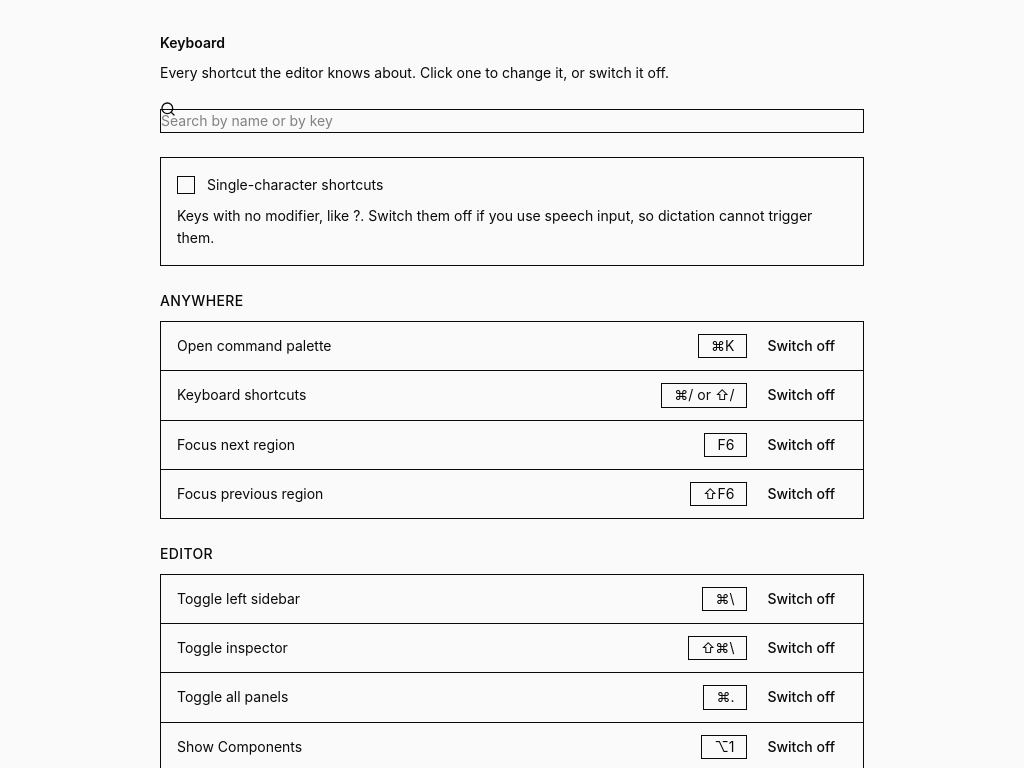
KeyboardSettings › remapping › refuses a key the browser owns, and says why
Click the button "⇧⌘\\".
click(718, 648)  # box [688,636,747,660]
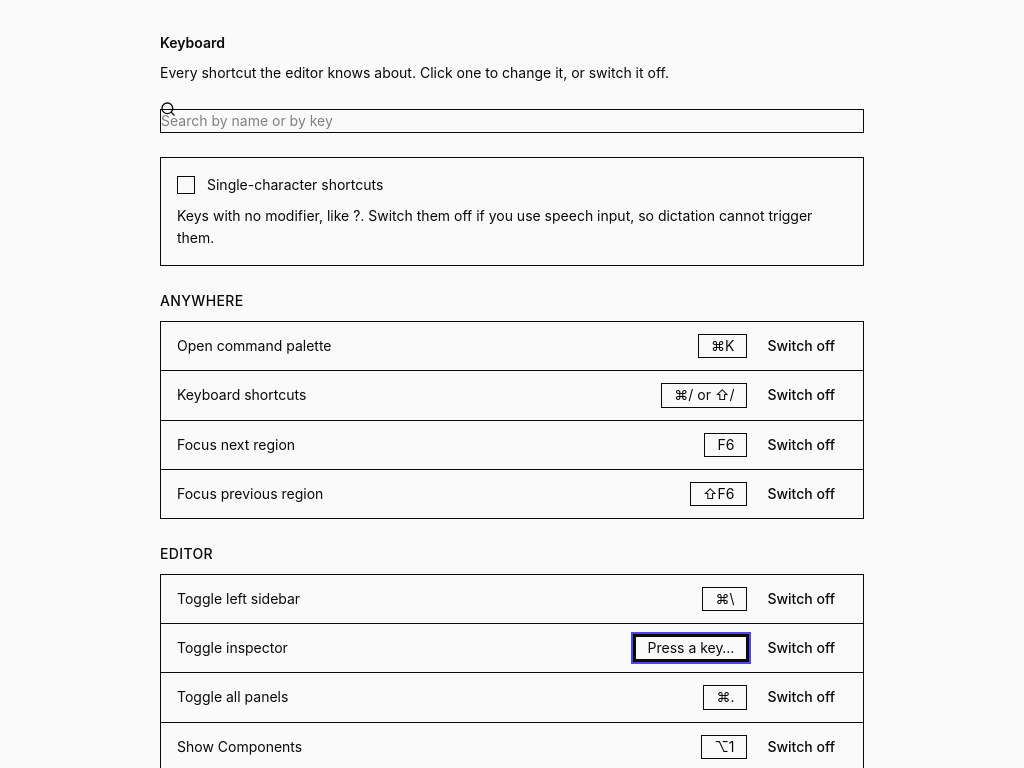
Type keys "{Meta>}w{/Meta}"
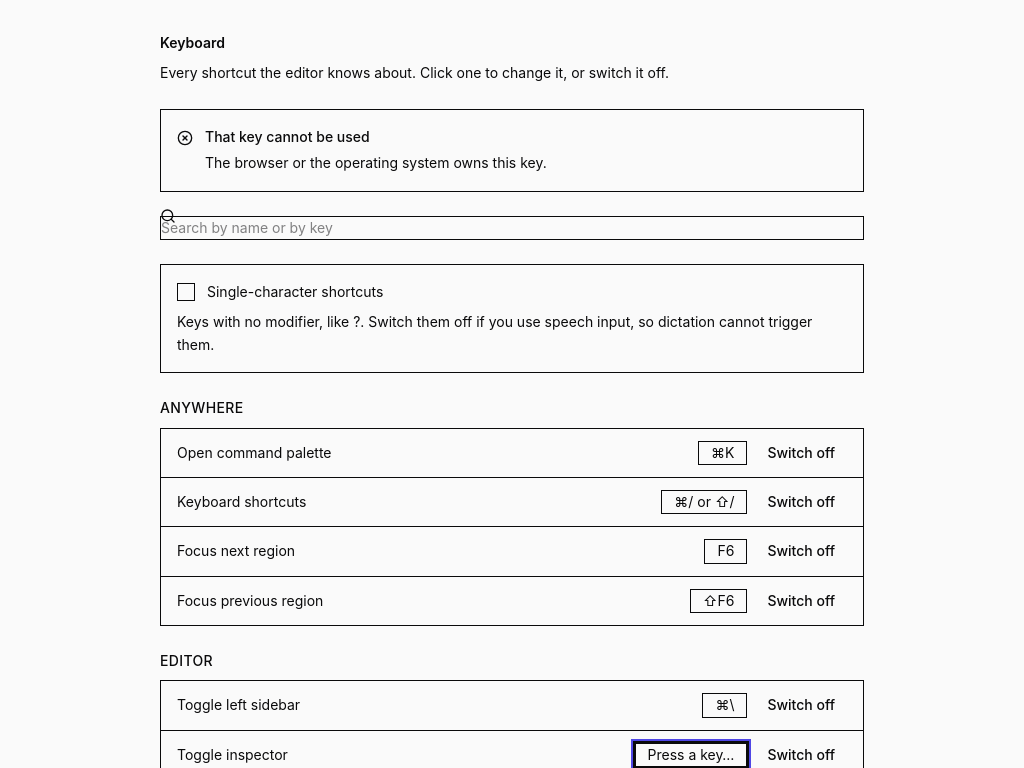
Expected: the text "The browser or the operating system owns this key." is shown, [205,154,547,171]
